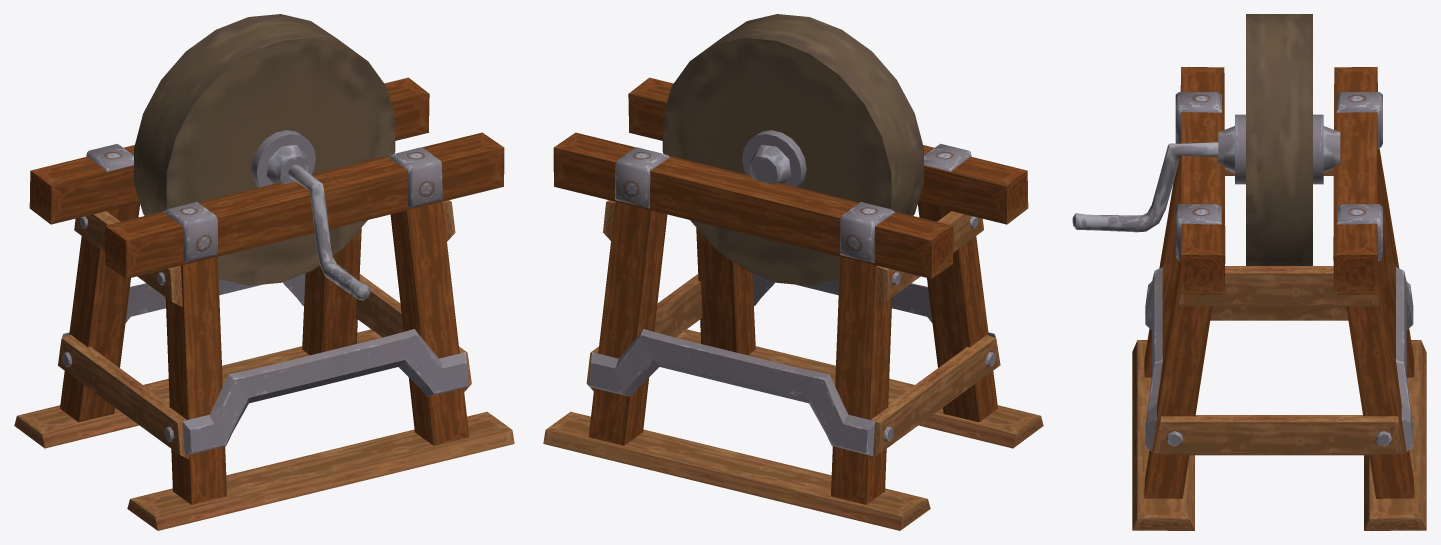
The model's file is whetstone.glb.
3 renders of one model, left to right at view 1: azimuth 30°, elevation 25°; view 2: azimuth 150°, elevation 25°; view 3: azimuth 270°, elevation 25°, orthographic. The views are drawn at different scales.
Parts seen in each view (by area): view 1: Whetstone; view 2: Whetstone; view 3: Whetstone.
Boxes of the visible parts, x1,y1,x2,y2 form: Whetstone: (14, 14, 514, 530); Whetstone: (543, 14, 1043, 530); Whetstone: (1072, 14, 1426, 530).
Bounding box in the file's own units: 1.14 × 1.17 × 0.9018.
Materials: 3 (3 with a texture image).
